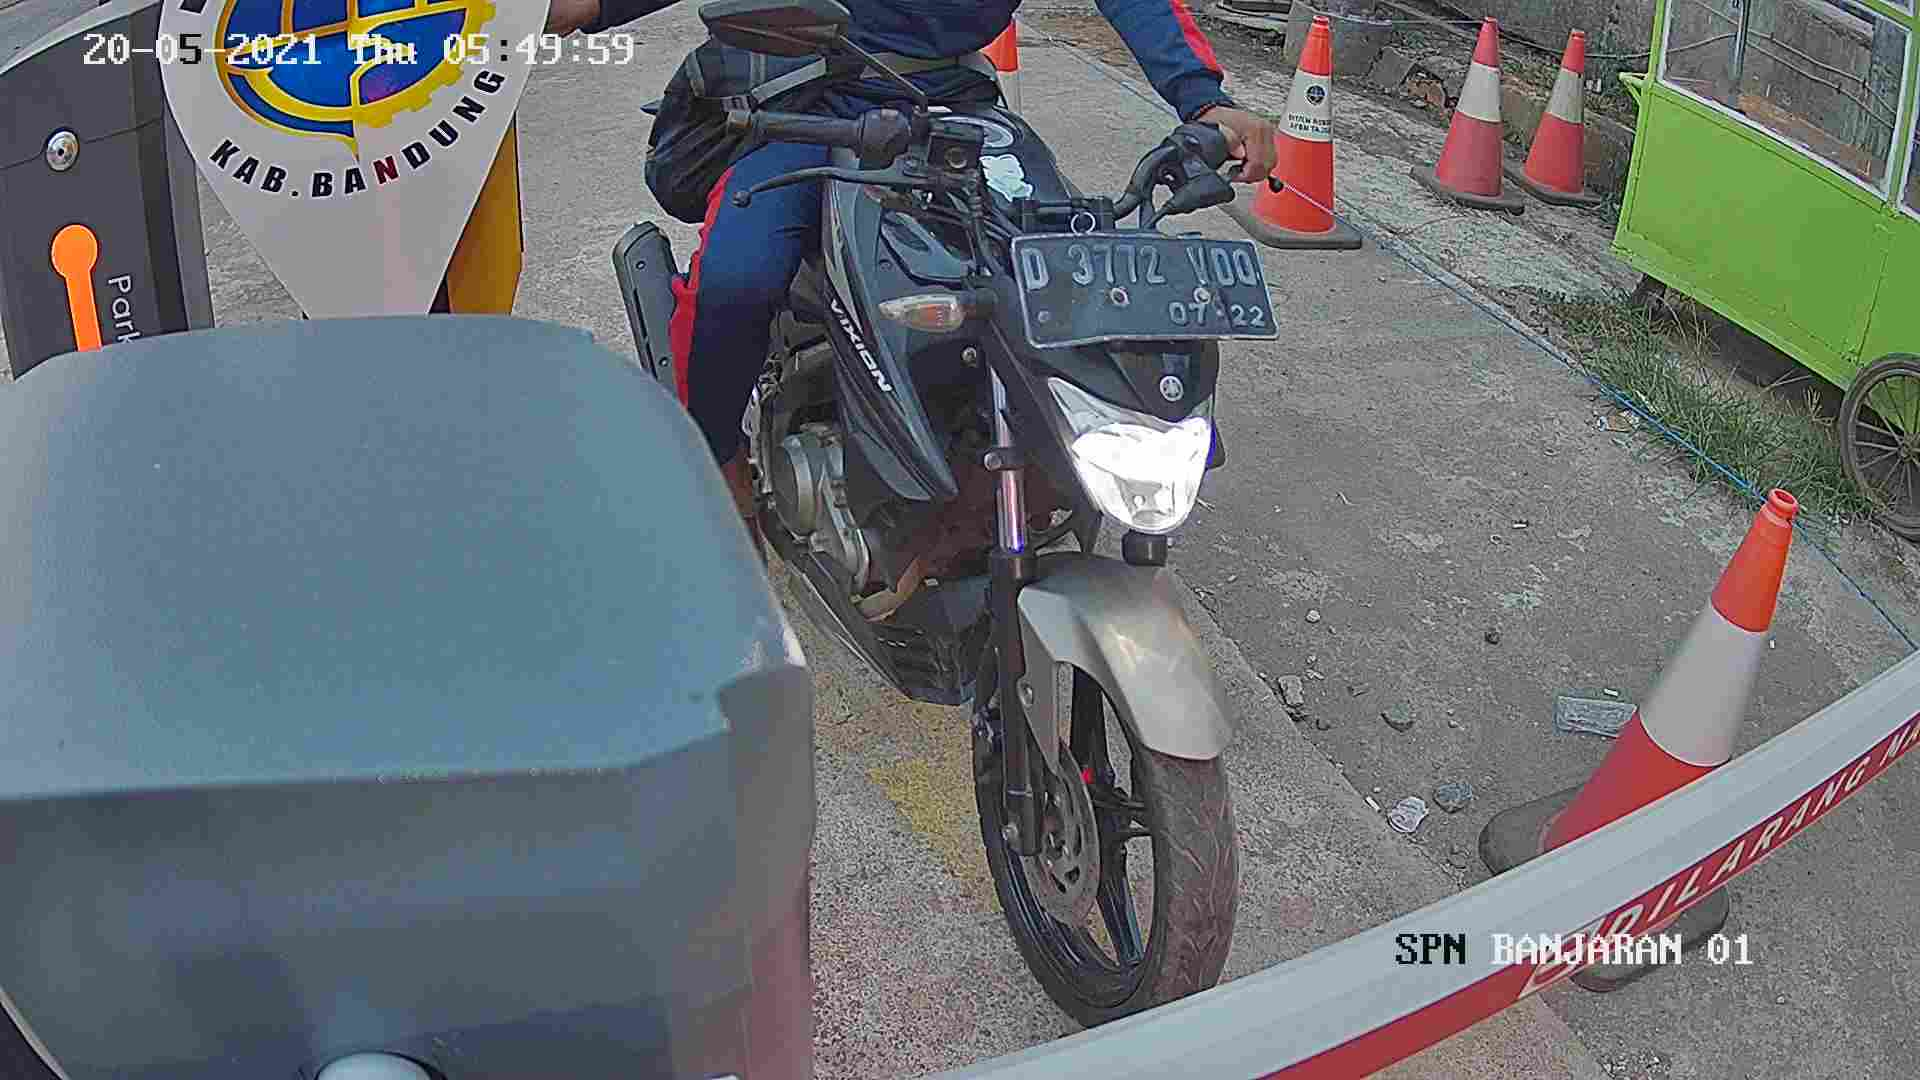motor: (612, 78, 1278, 1013)
